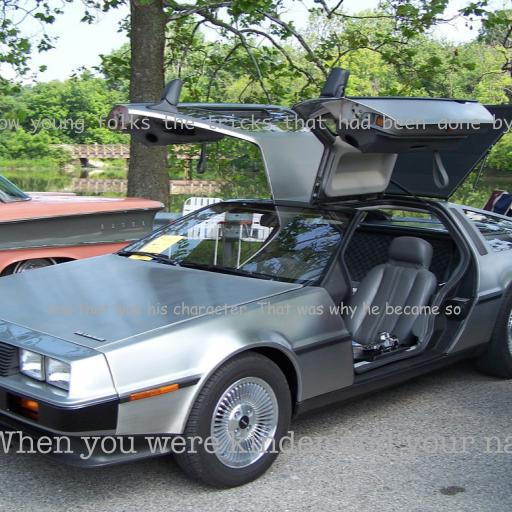American Typewriter: (0, 431, 512, 460)
Comic Sans MS: (47, 301, 461, 319)
Monaco: (0, 114, 512, 134)
